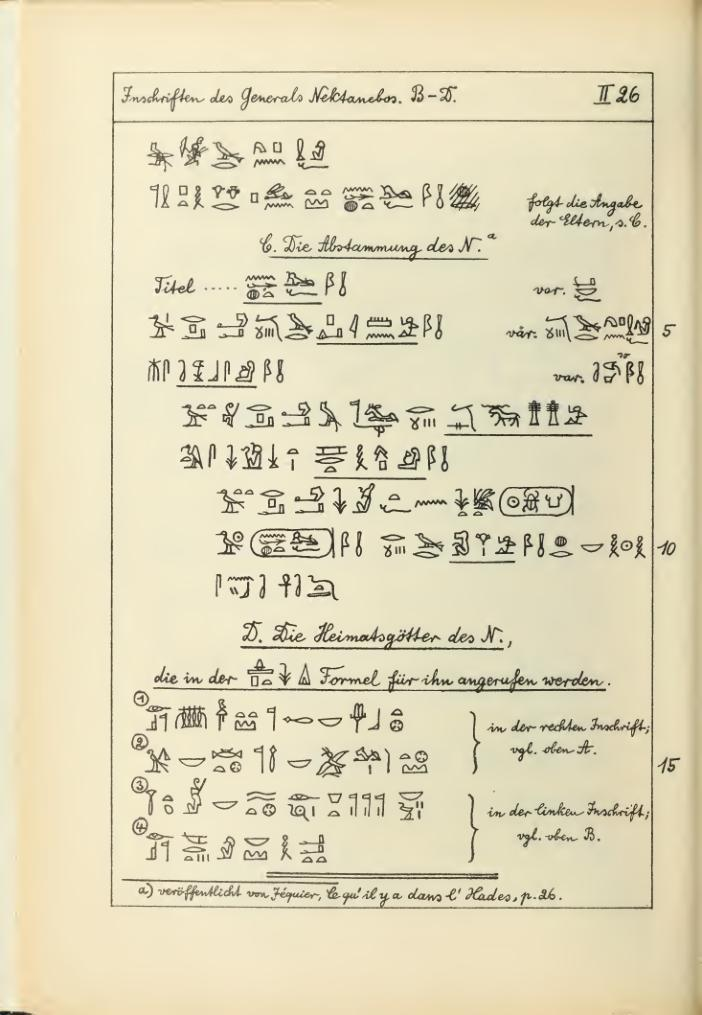circle: (247, 521, 349, 567), (490, 478, 583, 524)
